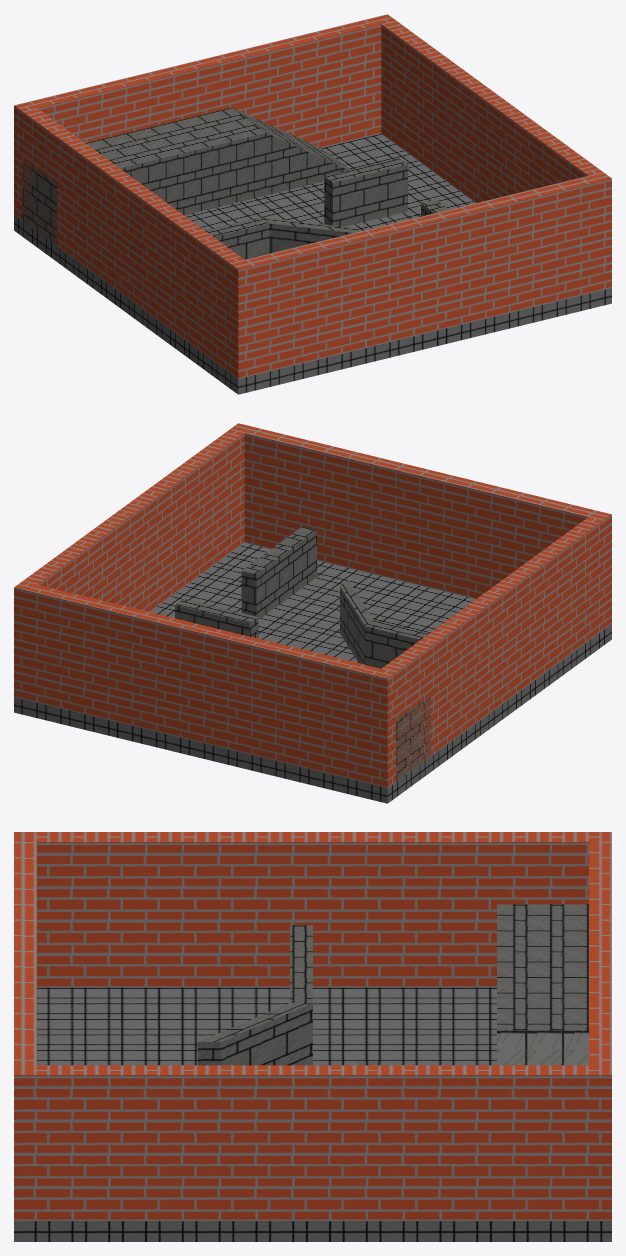
Rendered from FPS-MAP-1.glb.
3 renders of one model, top to bottom at view 1: azimuth 30°, elevation 25°; view 2: azimuth 150°, elevation 25°; view 3: azimuth 270°, elevation 25°, orthographic. The views are drawn at different scales.
Parts seen in each view (by area): view 1: unnamed_worldspawn_9, unnamed_worldspawn_3, unnamed_worldspawn_1, unnamed_worldspawn_8, unnamed_worldspawn_2, unnamed_worldspawn_0, unnamed_worldspawn_7, unnamed_worldspawn_5, unnamed_worldspawn_4; view 2: unnamed_worldspawn_1, unnamed_worldspawn_9, unnamed_worldspawn_3, unnamed_worldspawn_0, unnamed_worldspawn_8, unnamed_worldspawn_6, unnamed_worldspawn_2, unnamed_worldspawn_4, unnamed_worldspawn_7, unnamed_worldspawn_5; view 3: unnamed_worldspawn_8, unnamed_worldspawn_3, unnamed_worldspawn_0, unnamed_worldspawn_2, unnamed_worldspawn_1, unnamed_worldspawn_9, unnamed_worldspawn_5, unnamed_worldspawn_4.
Boxes of the visible parts, x1,y1,x2,y2 form: unnamed_worldspawn_9: (245,172,611,375); unnamed_worldspawn_3: (22,108,253,378); unnamed_worldspawn_1: (14,14,395,220); unnamed_worldspawn_8: (381,20,602,202); unnamed_worldspawn_2: (22,107,350,245); unnamed_worldspawn_0: (14,133,611,394); unnamed_worldspawn_7: (324,158,407,226); unnamed_worldspawn_5: (261,217,359,253); unnamed_worldspawn_4: (205,217,269,259); unnamed_worldspawn_1: (14,581,396,787); unnamed_worldspawn_9: (230,423,596,598); unnamed_worldspawn_3: (382,511,611,780); unnamed_worldspawn_0: (14,542,611,803); unnamed_worldspawn_8: (23,429,244,611); unnamed_worldspawn_6: (241,526,316,619); unnamed_worldspawn_2: (396,694,430,781); unnamed_worldspawn_4: (365,620,428,668); unnamed_worldspawn_7: (175,599,258,638); unnamed_worldspawn_5: (340,580,373,664); unnamed_worldspawn_8: (37,1065,588,1220); unnamed_worldspawn_3: (14,832,588,987); unnamed_worldspawn_0: (14,987,611,1241); unnamed_worldspawn_2: (497,904,588,1065); unnamed_worldspawn_1: (589,832,611,1220); unnamed_worldspawn_9: (14,842,36,1220); unnamed_worldspawn_5: (198,1003,312,1065); unnamed_worldspawn_4: (290,925,312,1002).
Bounding box in the file's own units: 6.25 × 2 × 6.5.
Materials: 3 (3 with a texture image).
